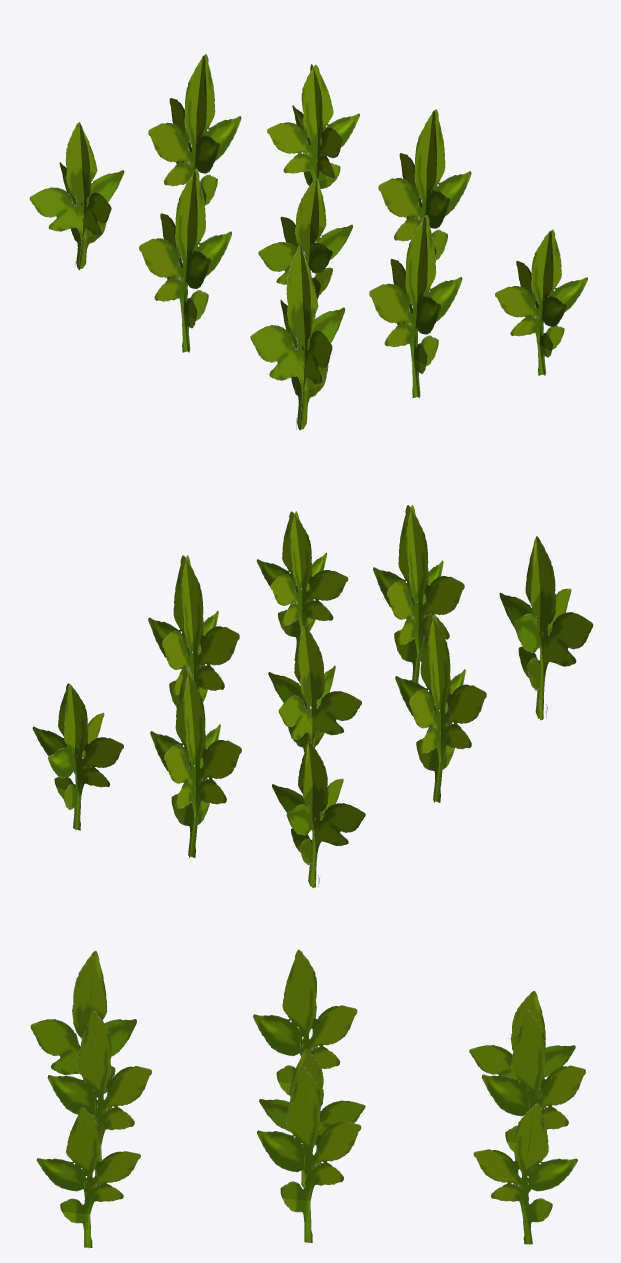
Rendered from Potato_Step01.fbx.
The picture shows the model from 3 angles, top to bottom: view 1: azimuth 30°, elevation 25°; view 2: azimuth 150°, elevation 25°; view 3: azimuth 270°, elevation 25°; orthographic projection. The views are drawn at different scales.
Visible parts, largest first — view 1: Potato_Step01; view 2: Potato_Step01; view 3: Potato_Step01.
Part boxes in pixels (x1=…): Potato_Step01: x1=29, y1=54, x2=587, y2=430; Potato_Step01: x1=32, y1=505, x2=593, y2=887; Potato_Step01: x1=30, y1=949, x2=585, y2=1248.
Size of the model in its own units: 136 by 76.22 by 189.
